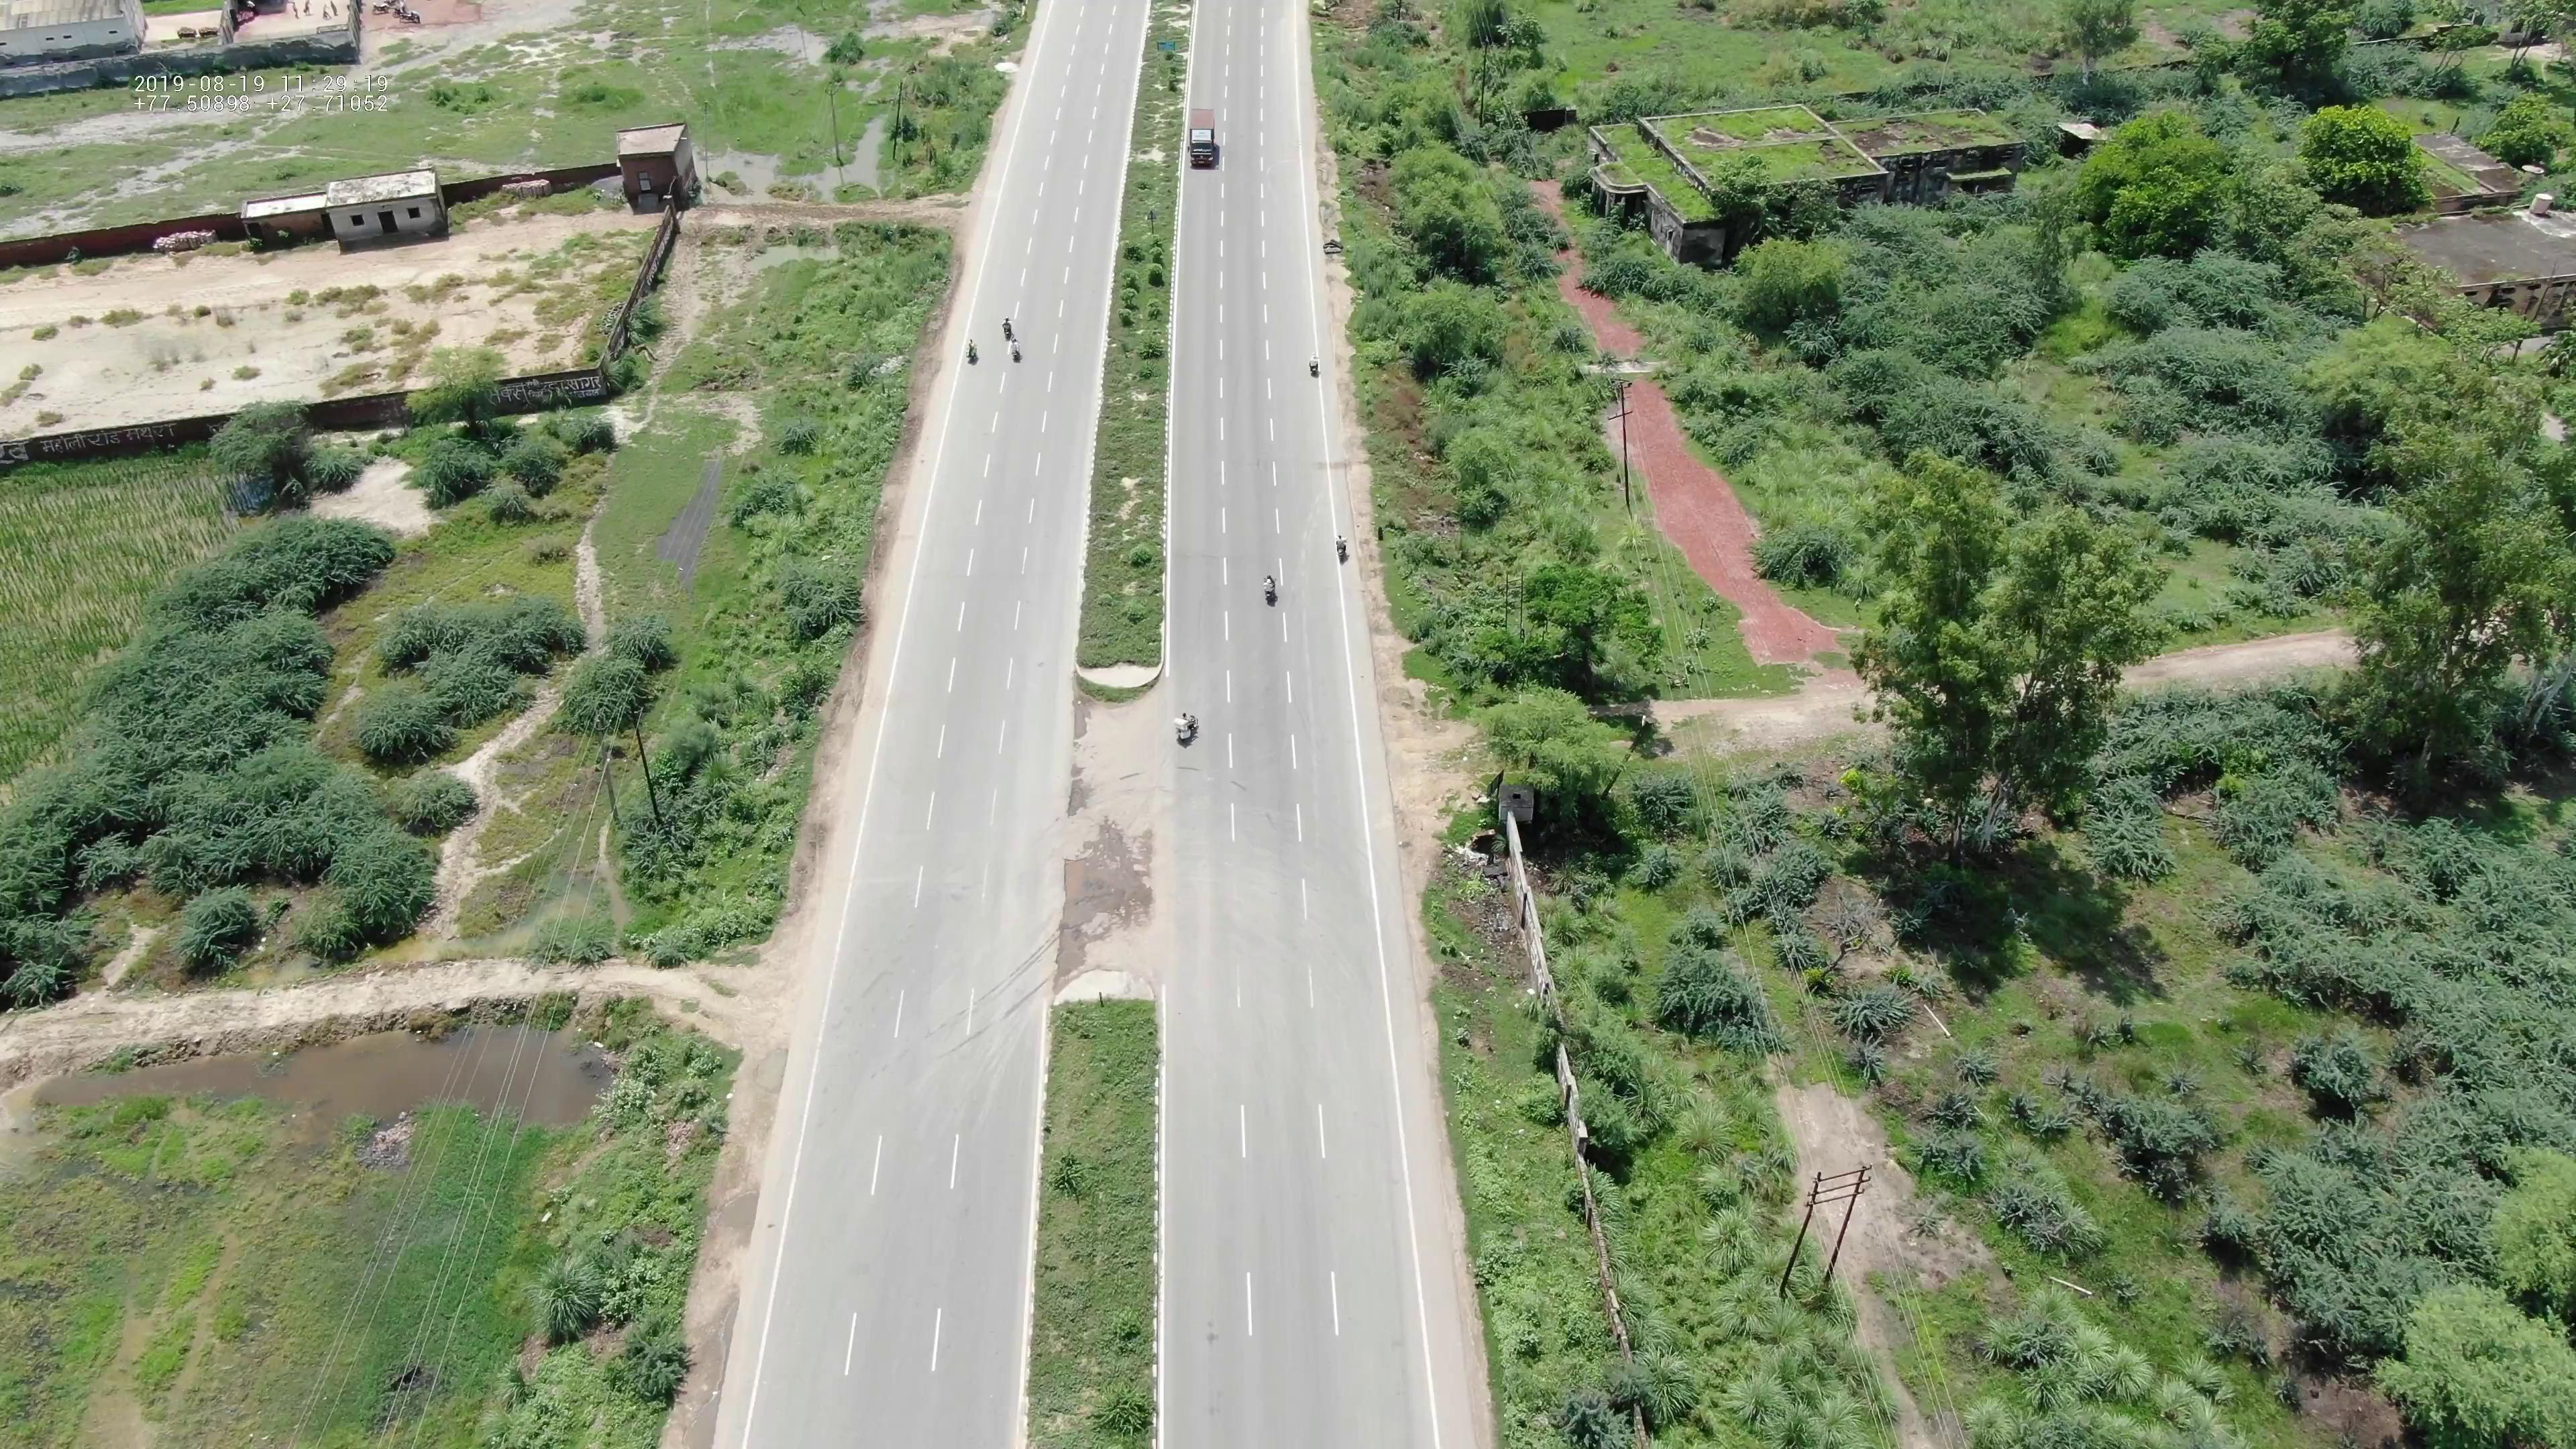Potholes: (1051, 759, 1095, 826)
